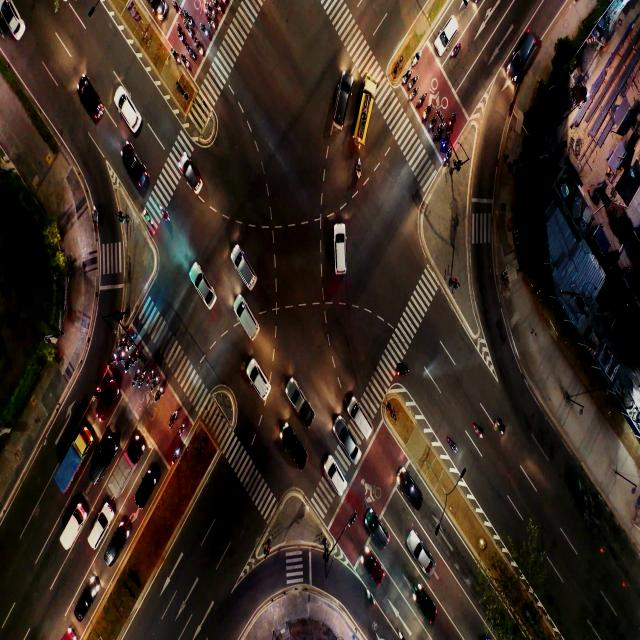bus: (360, 99, 370, 127)
car: (78, 86, 98, 114), (183, 156, 198, 190), (199, 283, 214, 305), (124, 105, 139, 127), (110, 532, 124, 554), (141, 479, 153, 502), (418, 548, 429, 572), (421, 600, 434, 620), (334, 242, 344, 268), (242, 312, 253, 333), (94, 455, 105, 476), (291, 440, 302, 460), (519, 42, 529, 62), (240, 260, 250, 280), (333, 474, 344, 492), (338, 99, 345, 126), (358, 414, 368, 432), (258, 378, 268, 396), (132, 160, 141, 179), (374, 528, 384, 544), (10, 10, 18, 30), (444, 24, 452, 42), (97, 518, 104, 538), (346, 439, 352, 461), (80, 596, 88, 612), (411, 490, 418, 508), (371, 566, 380, 580), (104, 397, 110, 415)
motorcycle: (364, 588, 375, 608), (448, 435, 457, 455), (143, 208, 153, 226), (396, 366, 409, 379), (494, 418, 503, 434), (473, 424, 482, 438), (172, 48, 179, 63), (161, 203, 167, 220), (356, 160, 362, 177), (92, 205, 98, 222), (455, 41, 461, 56), (414, 52, 420, 64), (189, 48, 195, 60), (172, 411, 178, 422), (450, 111, 454, 127), (437, 126, 442, 138), (180, 422, 186, 432), (178, 32, 184, 42), (184, 59, 190, 68), (199, 46, 204, 56), (158, 388, 164, 396), (127, 339, 132, 348), (219, 5, 224, 14), (443, 136, 447, 147), (419, 96, 423, 107), (405, 74, 410, 82), (204, 28, 209, 36), (135, 350, 138, 363), (150, 370, 154, 379), (128, 356, 131, 368), (112, 354, 116, 363), (176, 7, 180, 16), (447, 152, 452, 159), (142, 370, 146, 378), (412, 91, 417, 97), (175, 448, 178, 458), (413, 78, 417, 85), (188, 18, 192, 25), (121, 338, 124, 347), (426, 111, 430, 117), (136, 368, 140, 374), (122, 352, 125, 360), (212, 22, 215, 30), (211, 8, 215, 14), (432, 119, 435, 126), (97, 388, 100, 395), (188, 31, 192, 36), (156, 377, 158, 383)
truck: (66, 449, 77, 480), (296, 395, 306, 422), (119, 458, 130, 482), (70, 518, 76, 536)
